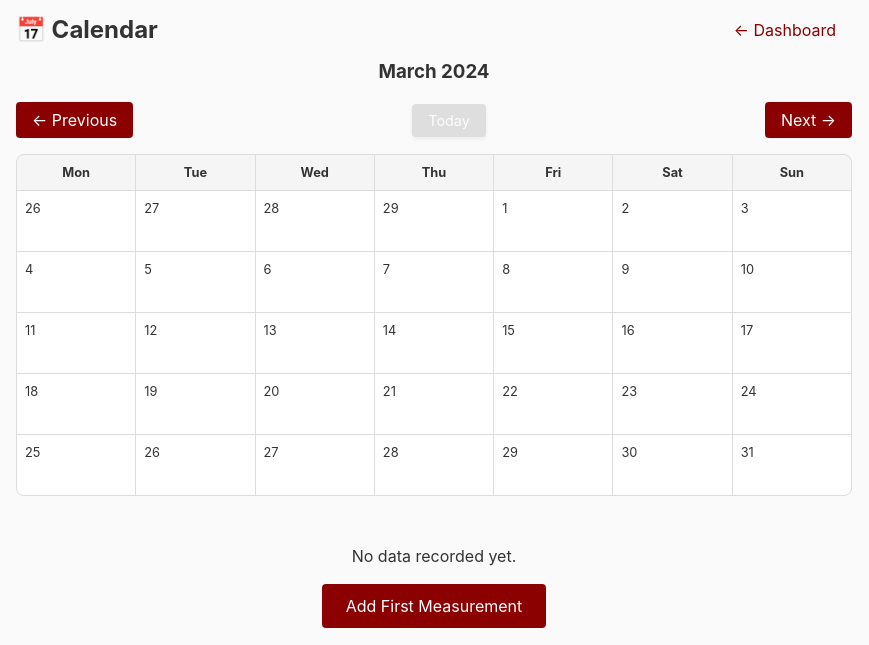
it: Calendar › Month Navigation › navigates to next month when next button clicked
Click the button "Next →" at (808, 120), box [765,102,852,138]
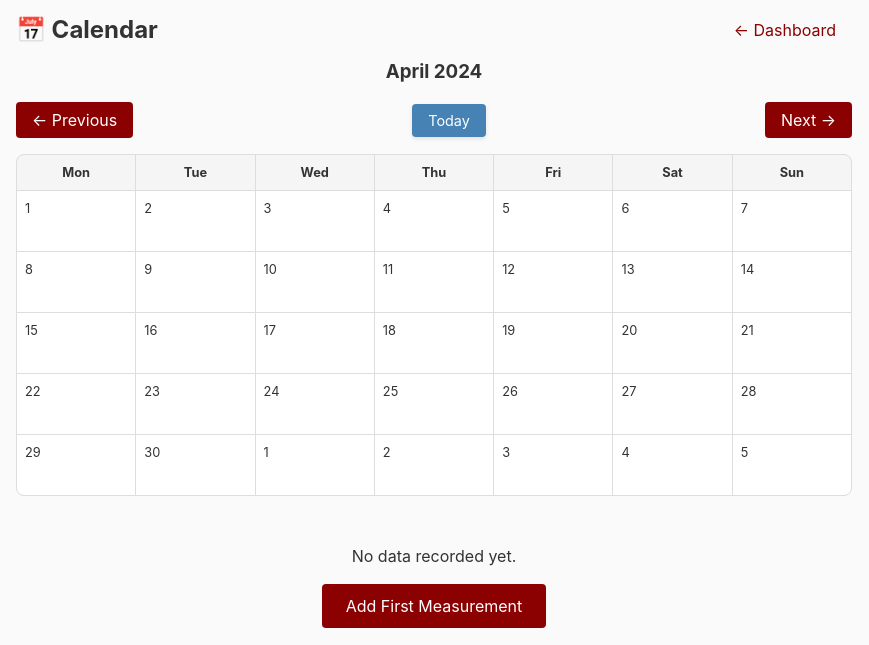
Expected: the heading "April 2024" is shown, [386,58,482,86]
